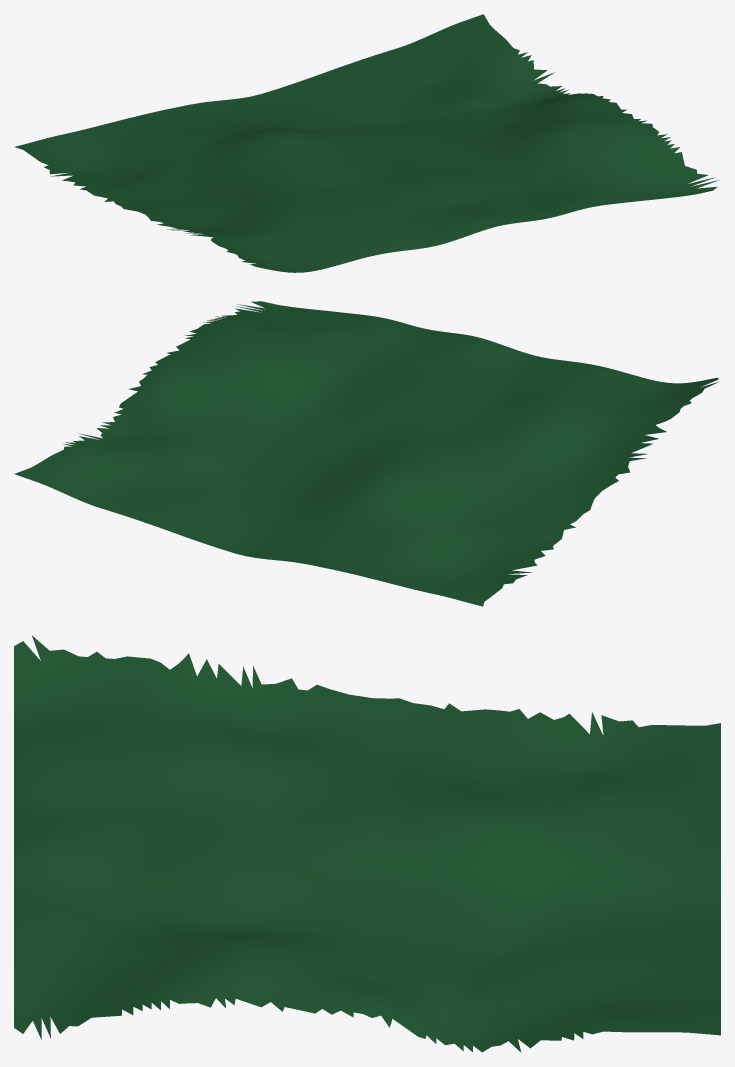
File: payo_land_xm1_ym4.glb
3 renders of one model, top to bottom at view 1: azimuth 30°, elevation 25°; view 2: azimuth 150°, elevation 25°; view 3: azimuth 270°, elevation 25°, orthographic. The views are drawn at different scales.
Parts seen in each view (by area): view 1: payo_land_xm1_ym4; view 2: payo_land_xm1_ym4; view 3: payo_land_xm1_ym4.
Boxes of the visible parts, x1=… form: payo_land_xm1_ym4: x1=15, y1=14, x2=719, y2=272; payo_land_xm1_ym4: x1=14, y1=301, x2=719, y2=606; payo_land_xm1_ym4: x1=14, y1=635, x2=720, y2=1052.
Size of the model in its own units: 271 by 34.26 by 231.
